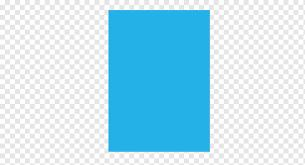cyan_zone: (105, 7, 213, 155)
